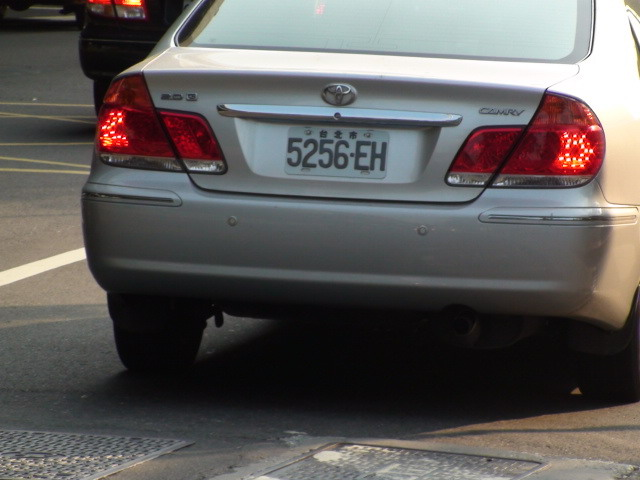plate: (282, 123, 392, 182)
